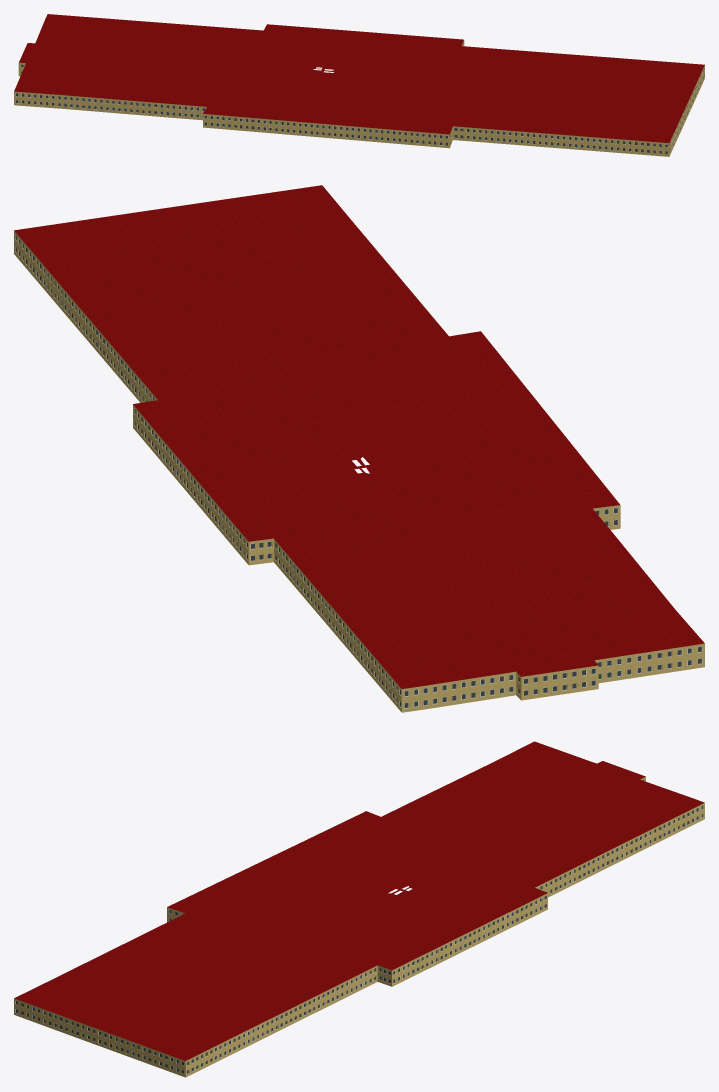
The model's file is KSEA.gltf.
3 renders of one model, top to bottom at view 1: azimuth 30°, elevation 25°; view 2: azimuth 150°, elevation 25°; view 3: azimuth 270°, elevation 25°, orthographic. The views are drawn at different scales.
Parts seen in each view (by area): view 1: Building Sea-Tac Airport North Satellite; view 2: Building Sea-Tac Airport North Satellite; view 3: Building Sea-Tac Airport North Satellite.
Part boxes in pixels (x1=…): Building Sea-Tac Airport North Satellite: x1=14, y1=14, x2=704, y2=156; Building Sea-Tac Airport North Satellite: x1=14, y1=185, x2=704, y2=712; Building Sea-Tac Airport North Satellite: x1=14, y1=741, x2=704, y2=1077.
Bounding box in the file's own units: 208 × 5 × 190.
